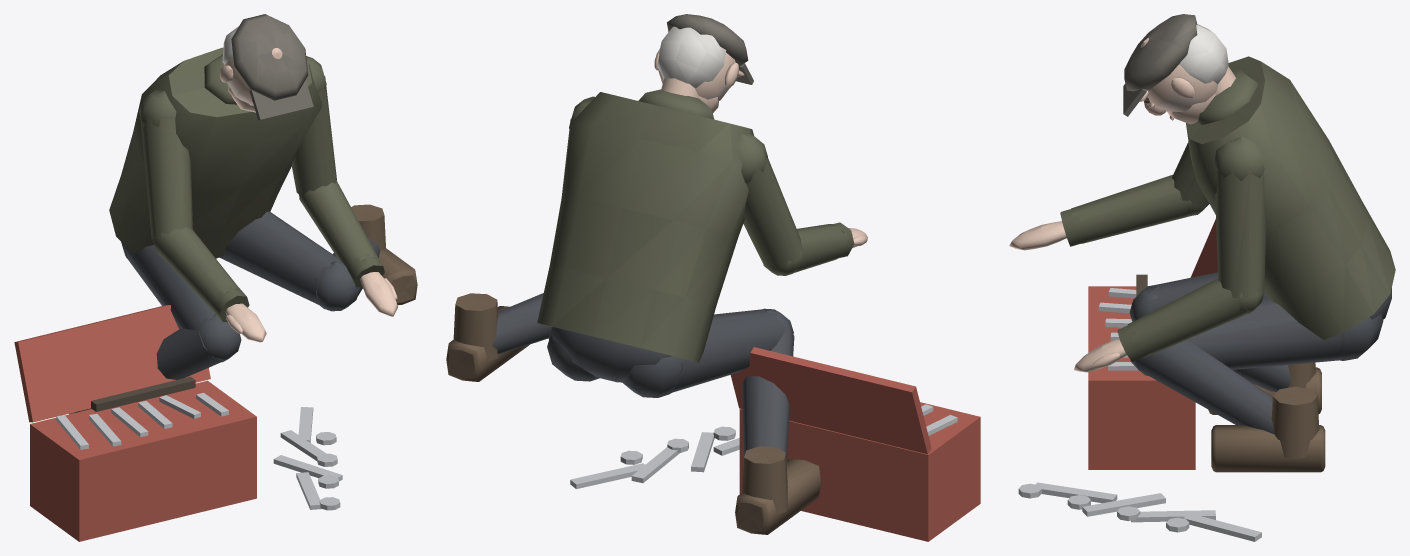
File: ellis_toolbox_a.glb
The picture shows the model from 3 angles, left to right: view 1: azimuth 30°, elevation 25°; view 2: azimuth 150°, elevation 25°; view 3: azimuth 270°, elevation 25°; orthographic projection. The views are drawn at different scales.
Parts seen in each view (by area): view 1: body; view 2: body; view 3: body.
Part boxes in pixels (bbox=[...]): body: bbox=[14, 14, 417, 541]; body: bbox=[446, 14, 980, 541]; body: bbox=[1009, 14, 1395, 541].
Bounding box in the file's own units: 1.13 × 1.18 × 0.8646.
